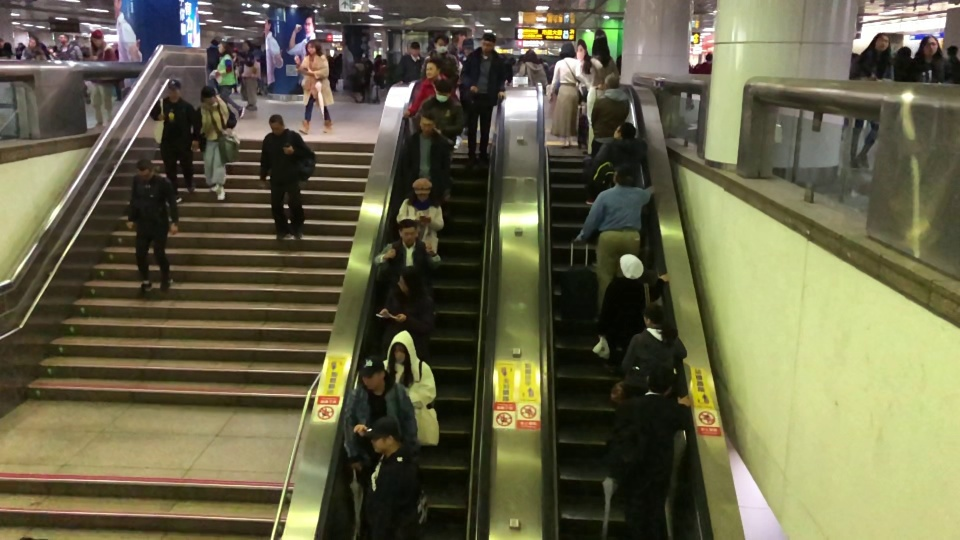person_head: (646, 364, 674, 394), (367, 426, 394, 453), (397, 265, 421, 293), (619, 254, 644, 278), (643, 302, 666, 326), (361, 367, 385, 389), (612, 164, 636, 185), (398, 219, 417, 243), (433, 79, 452, 101), (612, 121, 636, 138), (919, 35, 939, 55), (413, 178, 429, 201), (135, 159, 154, 178), (418, 111, 436, 131), (424, 57, 441, 78), (268, 114, 285, 133), (557, 42, 576, 59), (392, 341, 407, 362), (873, 32, 890, 50), (592, 35, 608, 54), (200, 85, 217, 102), (433, 35, 449, 53), (604, 73, 620, 89), (167, 81, 181, 98), (481, 33, 495, 49), (90, 32, 104, 47), (306, 39, 322, 52), (523, 49, 537, 63), (409, 41, 421, 55), (897, 46, 911, 58), (217, 41, 230, 52), (242, 41, 253, 51), (57, 34, 69, 43), (28, 37, 38, 47), (946, 44, 956, 54), (705, 53, 713, 62)
person_vbox: (611, 365, 690, 540), (577, 164, 653, 316), (343, 367, 417, 471), (596, 254, 672, 348), (126, 159, 178, 293), (257, 114, 307, 243), (849, 32, 893, 170), (621, 302, 686, 392), (463, 34, 505, 173), (150, 82, 198, 196), (192, 85, 237, 200), (377, 265, 435, 347), (366, 426, 422, 506), (586, 35, 619, 157), (591, 121, 648, 188), (294, 40, 333, 135), (396, 178, 444, 255), (406, 111, 450, 190), (404, 57, 460, 118), (373, 219, 428, 280), (550, 42, 581, 149), (591, 73, 630, 156), (84, 32, 117, 129), (390, 342, 437, 409), (418, 79, 464, 143), (213, 41, 245, 118), (912, 35, 955, 85), (420, 35, 458, 80), (238, 41, 260, 111), (395, 41, 422, 86), (517, 49, 547, 88), (53, 34, 84, 62), (894, 47, 912, 82), (20, 38, 47, 60), (945, 44, 959, 84), (695, 53, 714, 74)
